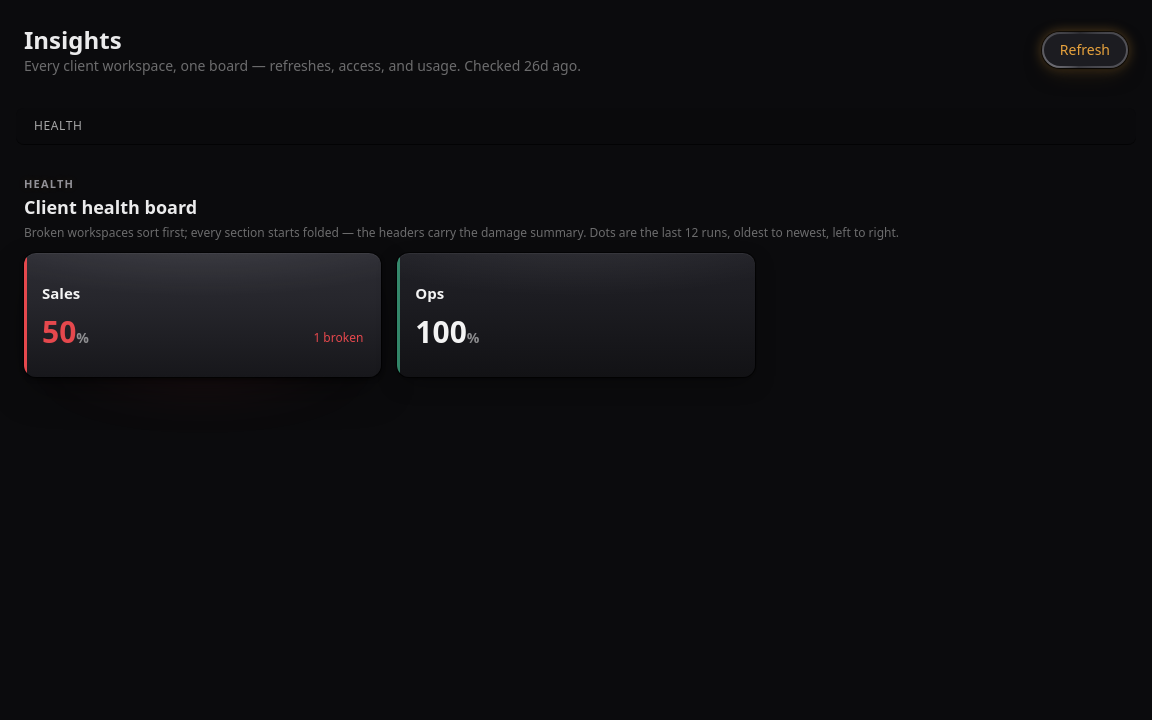
Test: InsightsPage — Luce board › drops the kind dots and the kind-key legend — the section titles carry the type (owner)
Click the button with aria-label "Open Ops details". click: (441, 331)
box: [397, 252, 755, 376]
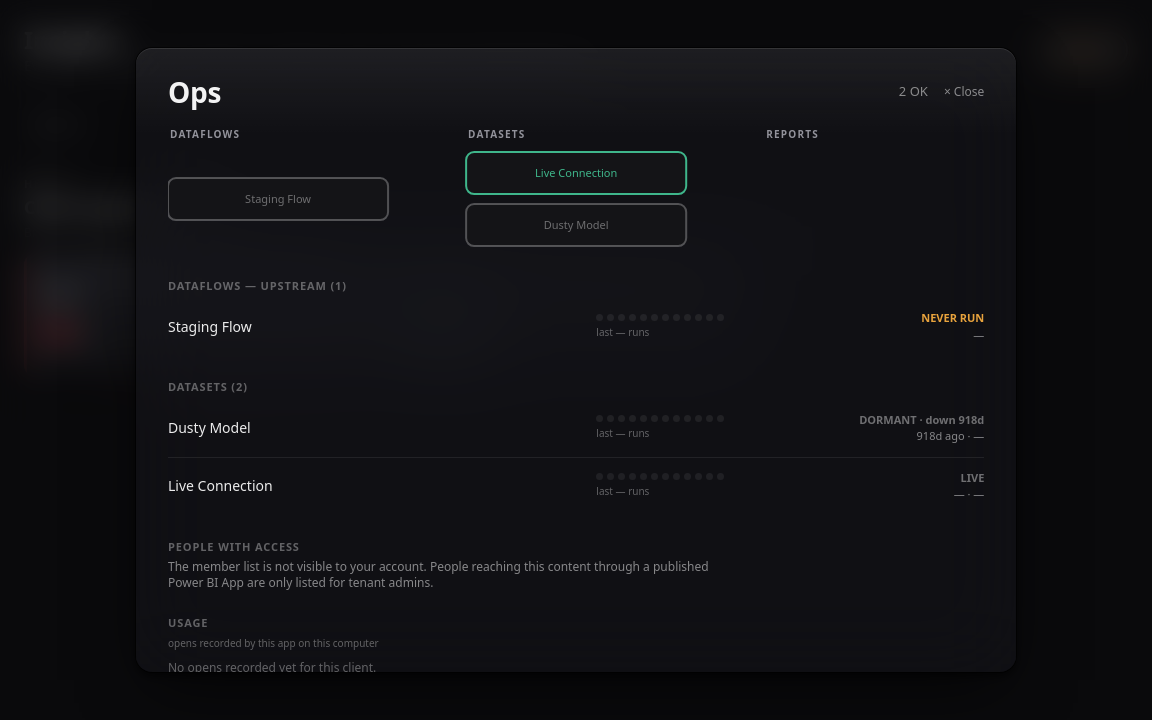
expect the text "Dataflows — upstream (1)" is shown: met, box [168, 278, 347, 292]
expect the text "Datasets (2)" is shown: met, box [168, 379, 248, 394]
